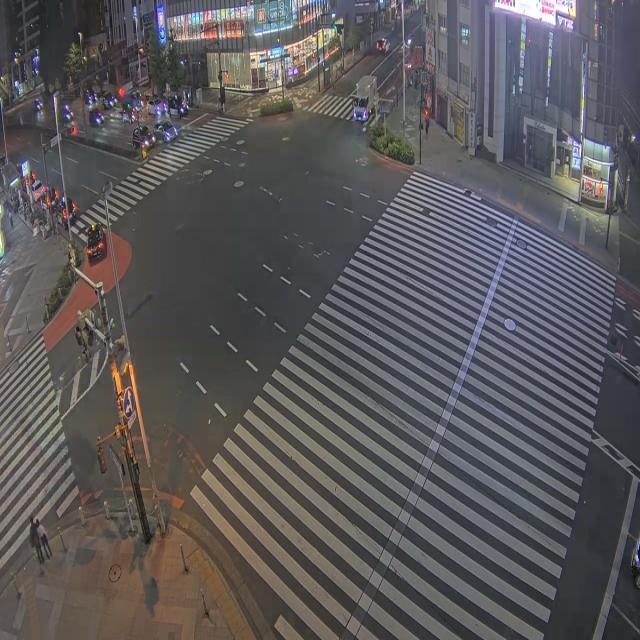car: (86, 224, 105, 262), (132, 126, 156, 150), (57, 196, 76, 226), (153, 120, 177, 142), (168, 96, 188, 118), (147, 98, 167, 116), (47, 183, 59, 207), (33, 180, 46, 201), (102, 93, 116, 110), (89, 110, 103, 127), (61, 104, 73, 123), (84, 89, 96, 106), (376, 39, 388, 53)
truck: (353, 75, 377, 121)
